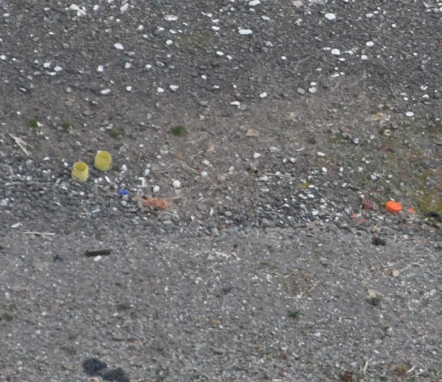scattered_barrel: (70, 147, 170, 214)
straight_bar: (70, 233, 127, 269)
white_in_green: (369, 182, 425, 227)
